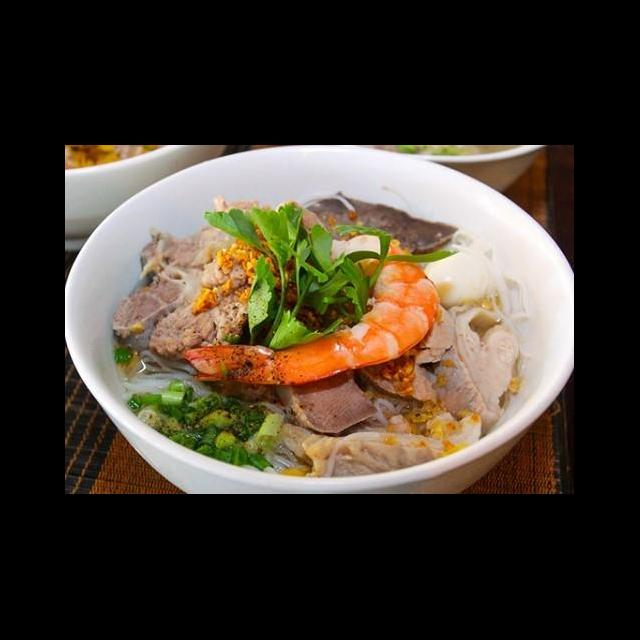banh hu tieu: (452, 222, 546, 382), (358, 378, 446, 447)
gan: (280, 188, 464, 264)
hu tieu: (78, 170, 574, 490)
thit heo: (110, 184, 282, 364), (426, 300, 524, 438), (276, 422, 469, 474)
tom: (178, 230, 444, 390)
